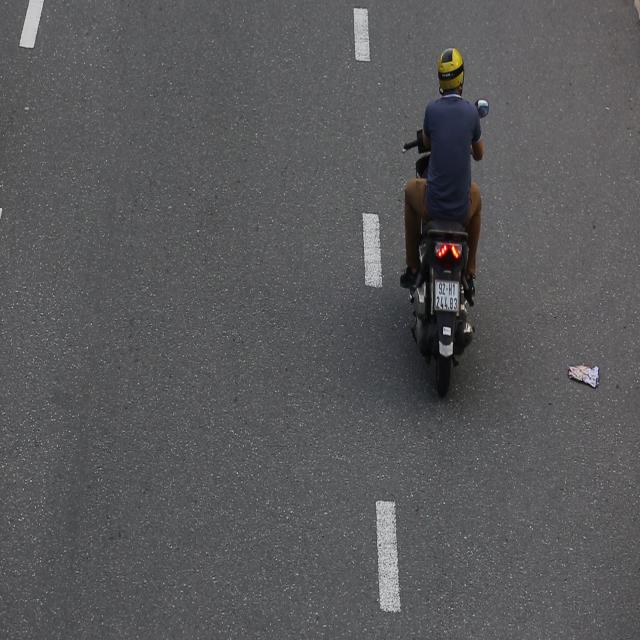motorbike: (395, 26, 492, 398)
